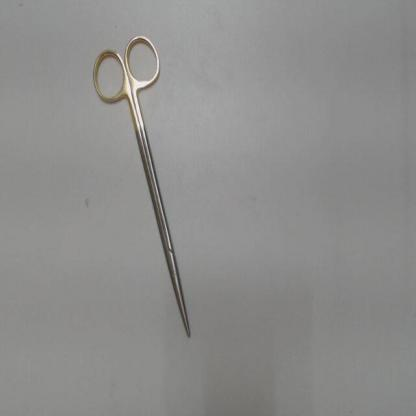7 Metzenbaum Scissors: (88, 26, 194, 344)
